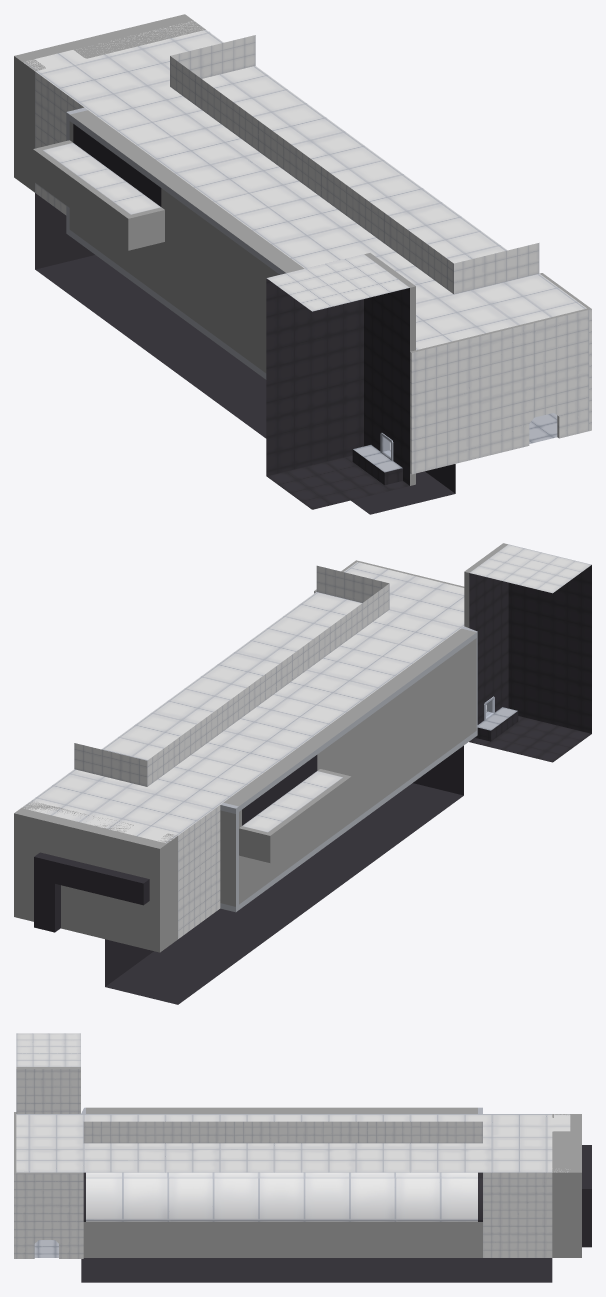
The model's file is Level3_A1_Textured.fbx.
3 renders of one model, top to bottom at view 1: azimuth 30°, elevation 25°; view 2: azimuth 150°, elevation 25°; view 3: azimuth 270°, elevation 25°, orthographic. The views are drawn at different scales.
Parts seen in each view (by area): view 1: pPlane6, polySurface2, pCube8, pCube17, polySurface1, pCube4, pCube6, pCube14, pCube12, pPlane3, pPlane5, pCube9; view 2: pPlane6, pCube8, polySurface1, polySurface2, pCube14, pCube4, pCube6, pCube13, pPlane5, pCube12, pPlane3, pCube10; view 3: pCube4, pPlane6, polySurface1, pPlane4, pCube18, pCube14, pCube6, pCube8, polySurface2, pCube13.
Boxes of the visible parts, box(x1,y1,x2,y2) form: pPlane6: box(24, 21, 586, 350); polySurface2: box(266, 254, 409, 509); pCube8: box(66, 107, 304, 379); pCube17: box(410, 308, 588, 474); polySurface1: box(35, 193, 557, 514); pCube4: box(170, 35, 539, 294); pCube6: box(364, 253, 415, 485); pCube14: box(14, 14, 205, 192); pCube12: box(33, 147, 134, 250); pPlane3: box(43, 143, 160, 214); pPlane5: box(35, 71, 83, 215); pCube9: box(131, 207, 164, 249); pPlane6: box(22, 562, 464, 843); pCube8: box(220, 626, 477, 912); polySurface1: box(105, 704, 486, 1004); polySurface2: box(469, 544, 591, 762); pCube14: box(14, 800, 177, 952); pCube4: box(74, 565, 389, 786); pCube6: box(464, 543, 508, 741); pCube13: box(34, 852, 149, 932); pPlane5: box(178, 805, 220, 938); pCube12: box(265, 775, 351, 862); pPlane3: box(242, 771, 342, 832); pCube10: box(239, 826, 267, 861); pCube4: box(83, 1121, 482, 1257); pPlane6: box(16, 1114, 570, 1172); polySurface1: box(34, 1240, 552, 1282); pPlane4: box(483, 1172, 552, 1257); pCube18: box(14, 1172, 83, 1258); pCube14: box(552, 1114, 581, 1257); pCube6: box(16, 1067, 80, 1113); pCube8: box(81, 1107, 482, 1113); polySurface2: box(16, 1033, 80, 1066); pCube13: box(582, 1145, 591, 1247).
Bounding box in the file's own units: 45.5 × 41 × 116.
Materials: 7 (4 with a texture image).
